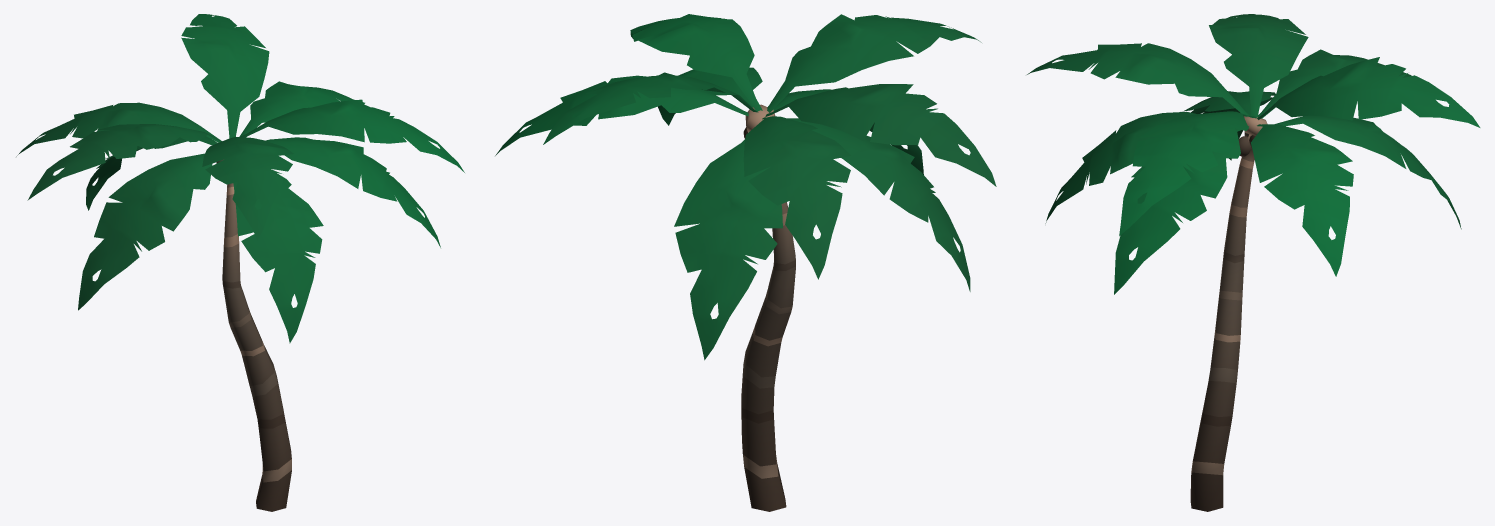
Rendered from PalmTree_03.fbx.
3 renders of one model, left to right at view 1: azimuth 30°, elevation 25°; view 2: azimuth 150°, elevation 25°; view 3: azimuth 270°, elevation 25°, orthographic. The views are drawn at different scales.
Parts seen in each view (by area): view 1: Cylinder.187; view 2: Cylinder.187; view 3: Cylinder.187.
Boxes of the visible parts, <box> form: Cylinder.187: <box>16,14,464,511</box>; Cylinder.187: <box>495,14,996,511</box>; Cylinder.187: <box>1027,14,1480,511</box>.
Size of the model in its own units: 603 by 607 by 567.
